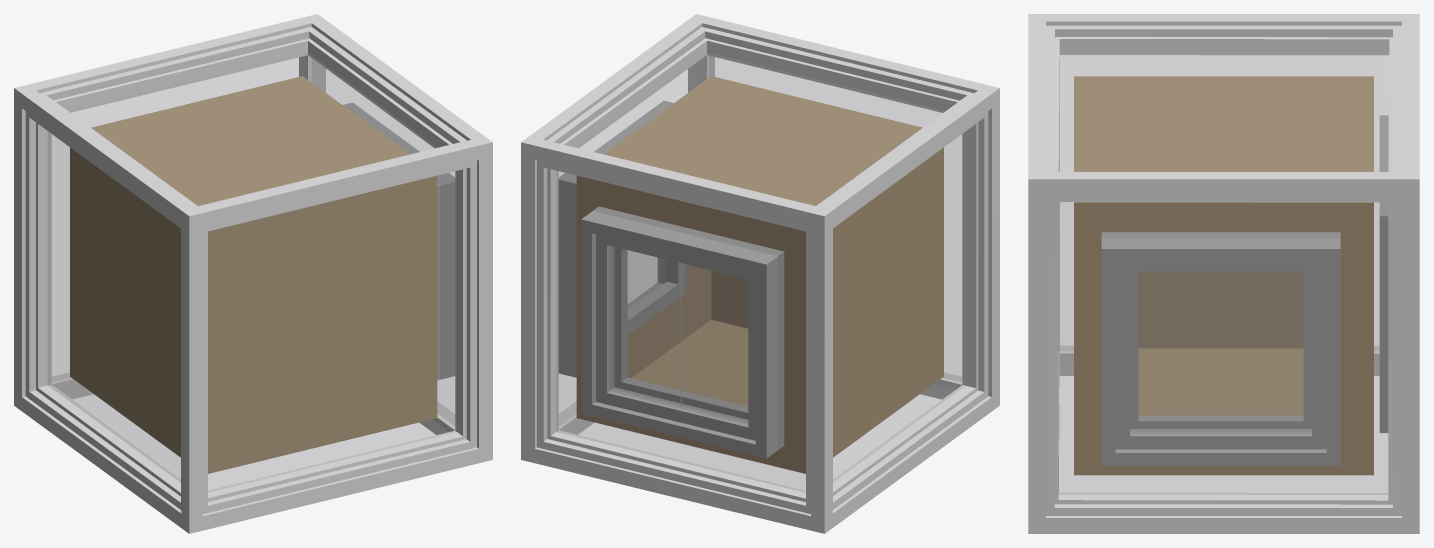
The model's file is PipeTurn.fbx.
3 renders of one model, left to right at view 1: azimuth 30°, elevation 25°; view 2: azimuth 150°, elevation 25°; view 3: azimuth 270°, elevation 25°, orthographic. The views are drawn at different scales.
Visible parts, largest first — view 1: PipeTurn; view 2: PipeTurn, TurnDoor1, TurnDoor2, TurnDoor3; view 3: PipeTurn, TurnDoor3, TurnDoor4.
Part boxes in pixels (left/top/right/bottom): PipeTurn: left=14, top=14, right=492, bottom=533; PipeTurn: left=521, top=14, right=999, bottom=533; TurnDoor1: left=610, top=246, right=682, bottom=407; TurnDoor2: left=680, top=263, right=747, bottom=424; TurnDoor3: left=628, top=250, right=661, bottom=307; PipeTurn: left=1028, top=14, right=1419, bottom=533; TurnDoor3: left=1130, top=271, right=1220, bottom=433; TurnDoor4: left=1221, top=271, right=1311, bottom=433.
Bounding box in the file's own units: 4.4 × 4.4 × 4.4.
